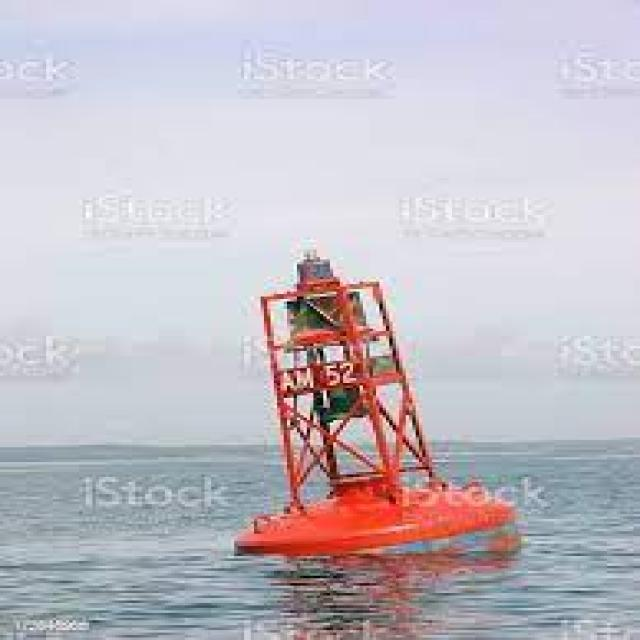2.1 lateral mark -P-: (217, 222, 538, 589)
